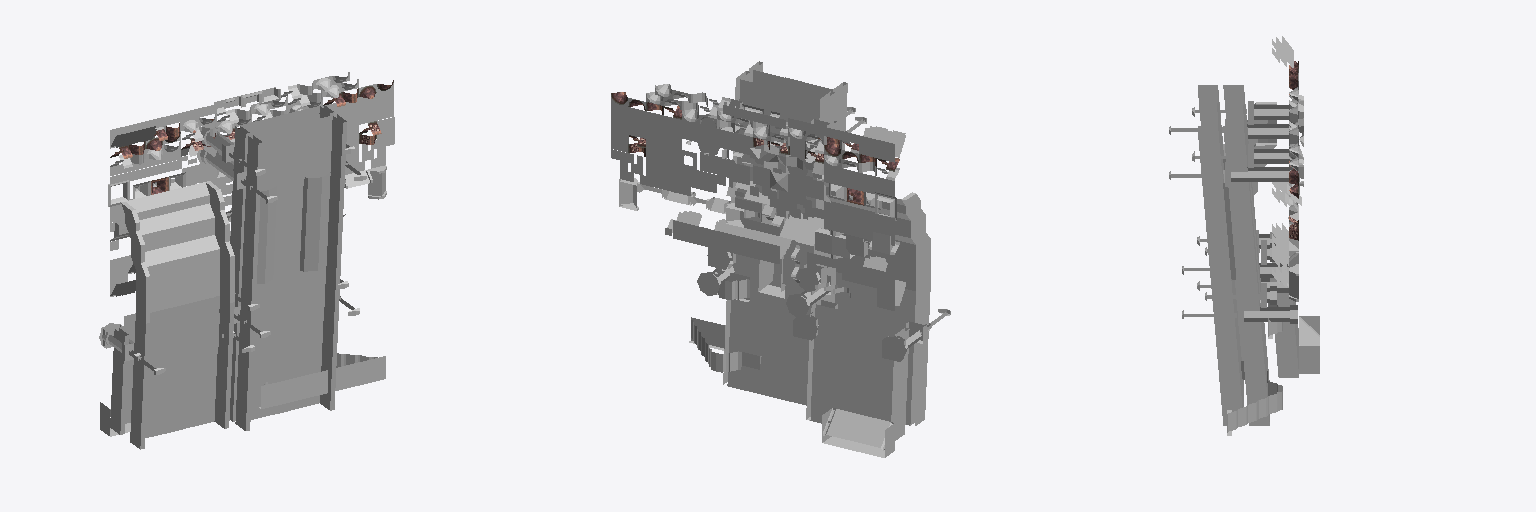
3 renders of one model, left to right at view 1: azimuth 30°, elevation 25°; view 2: azimuth 150°, elevation 25°; view 3: azimuth 270°, elevation 25°, orthographic.
Parts seen in each view (by area): view 1: map; view 2: map; view 3: map.
Part boxes in pixels (x1,y1,x2,y2): map: (99,72,394,449); map: (611,61,950,457); map: (1169,36,1319,435).
Size of the model in its own units: 33.3 by 33.25 by 21.66.
86 materials, 2 textured.